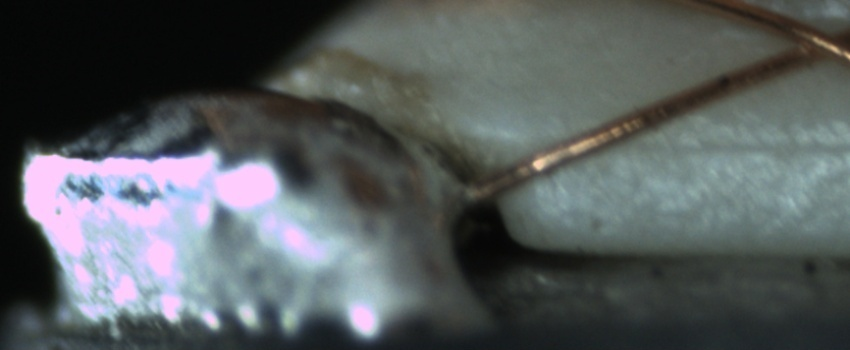CL: (769, 15, 847, 73)
DL: (616, 111, 845, 181)
